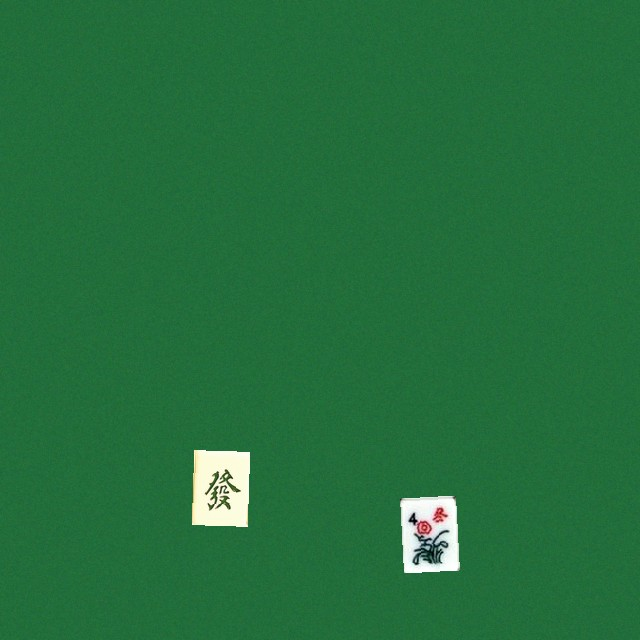tile: (400, 495, 456, 570), (191, 450, 247, 525)
